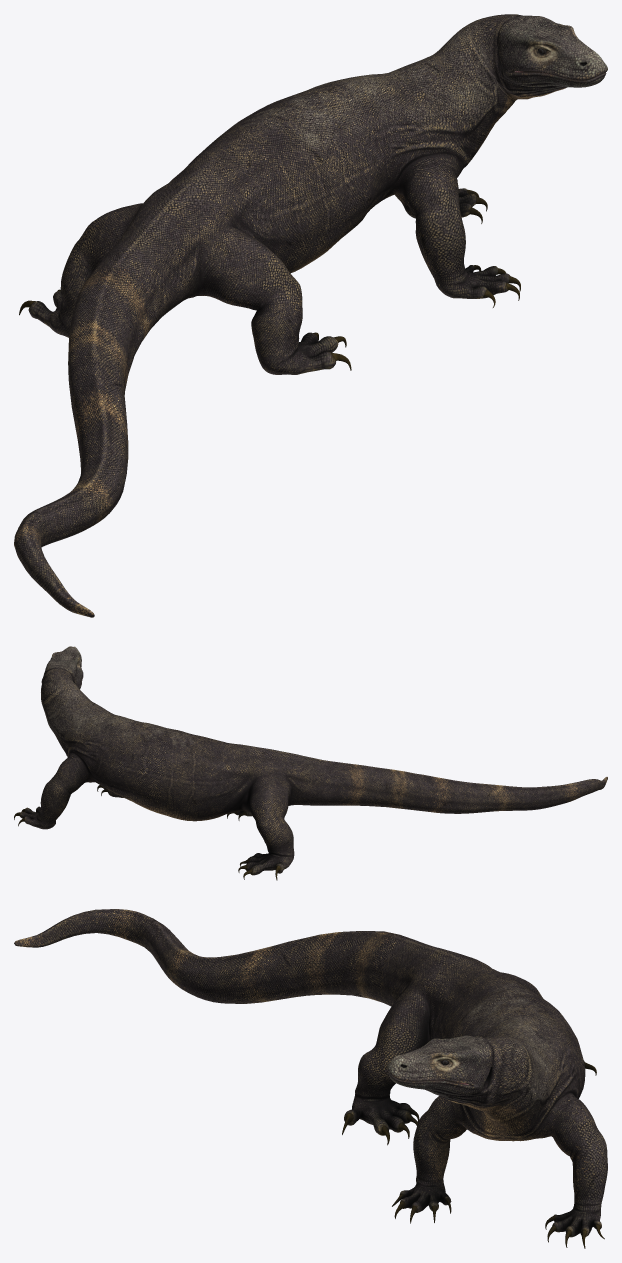
Rendered from komodo_dragon.glb.
3 renders of one model, top to bottom at view 1: azimuth 30°, elevation 25°; view 2: azimuth 150°, elevation 25°; view 3: azimuth 270°, elevation 25°, orthographic. The views are drawn at different scales.
Visible parts, largest first — view 1: node_id66_1; view 2: node_id66_1; view 3: node_id66_1.
Boxes of the visible parts, bbox=[...] form: node_id66_1: bbox=[14, 14, 607, 617]; node_id66_1: bbox=[14, 646, 607, 880]; node_id66_1: bbox=[14, 909, 607, 1248].
Bounding box in the file's own units: 0.512 × 0.1517 × 0.4053.
Materials: 1 (1 with a texture image).
